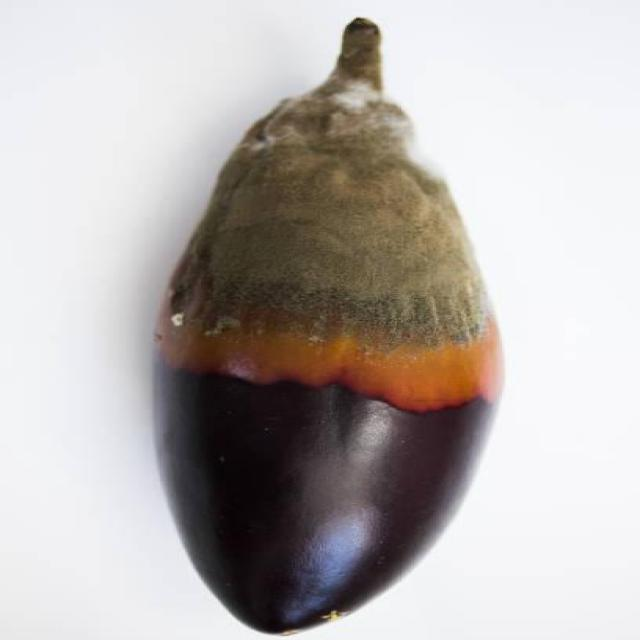eggplant: (151, 15, 506, 633)
